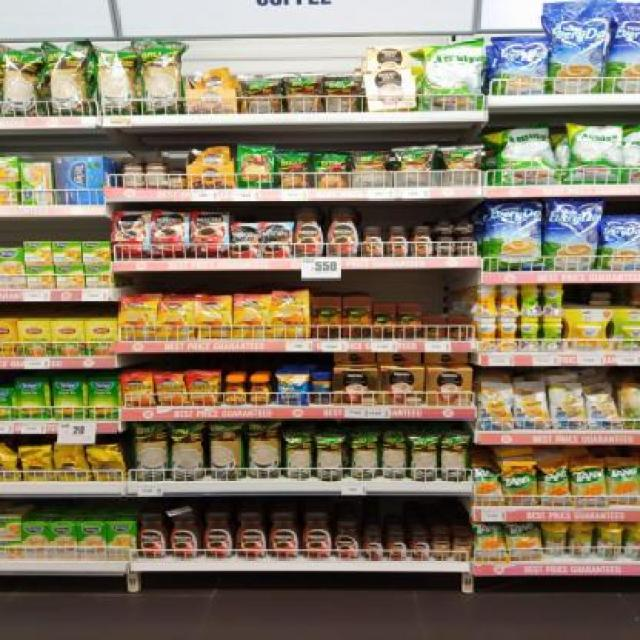Coffee: (113, 210, 150, 258), (272, 292, 310, 338), (190, 212, 228, 257), (234, 293, 271, 339), (153, 212, 189, 258), (195, 296, 232, 339), (326, 208, 357, 258), (157, 298, 195, 338), (294, 208, 324, 258), (120, 298, 156, 339), (300, 514, 332, 558), (138, 513, 167, 559), (268, 514, 298, 558), (202, 515, 232, 559), (237, 514, 265, 557), (171, 514, 198, 557), (187, 373, 220, 405), (231, 222, 260, 258), (262, 224, 292, 258), (155, 376, 187, 406), (123, 376, 154, 406), (334, 522, 358, 558), (361, 226, 384, 257), (388, 226, 409, 257), (412, 226, 433, 257), (387, 530, 408, 560), (248, 377, 270, 405), (362, 530, 382, 560), (410, 530, 430, 560), (224, 378, 245, 405), (459, 238, 478, 256), (436, 238, 455, 256), (455, 219, 474, 236), (435, 219, 453, 235)
